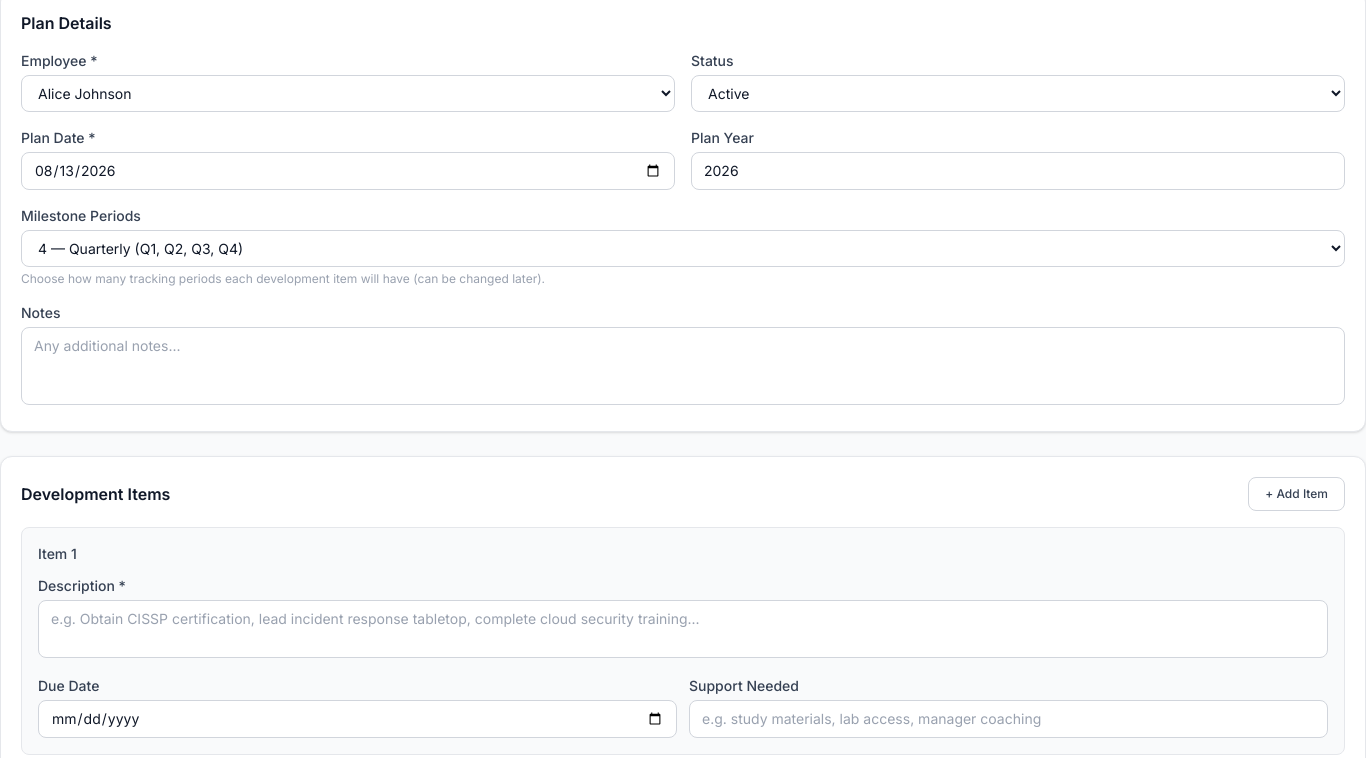
Scenario: IDPForm › adds a new development item when + Add Item is clicked
Step 1. Click the button "+ Add Item" → [1297, 494], box x1=1248 y1=477 x2=1345 y2=511
(page scrolled)
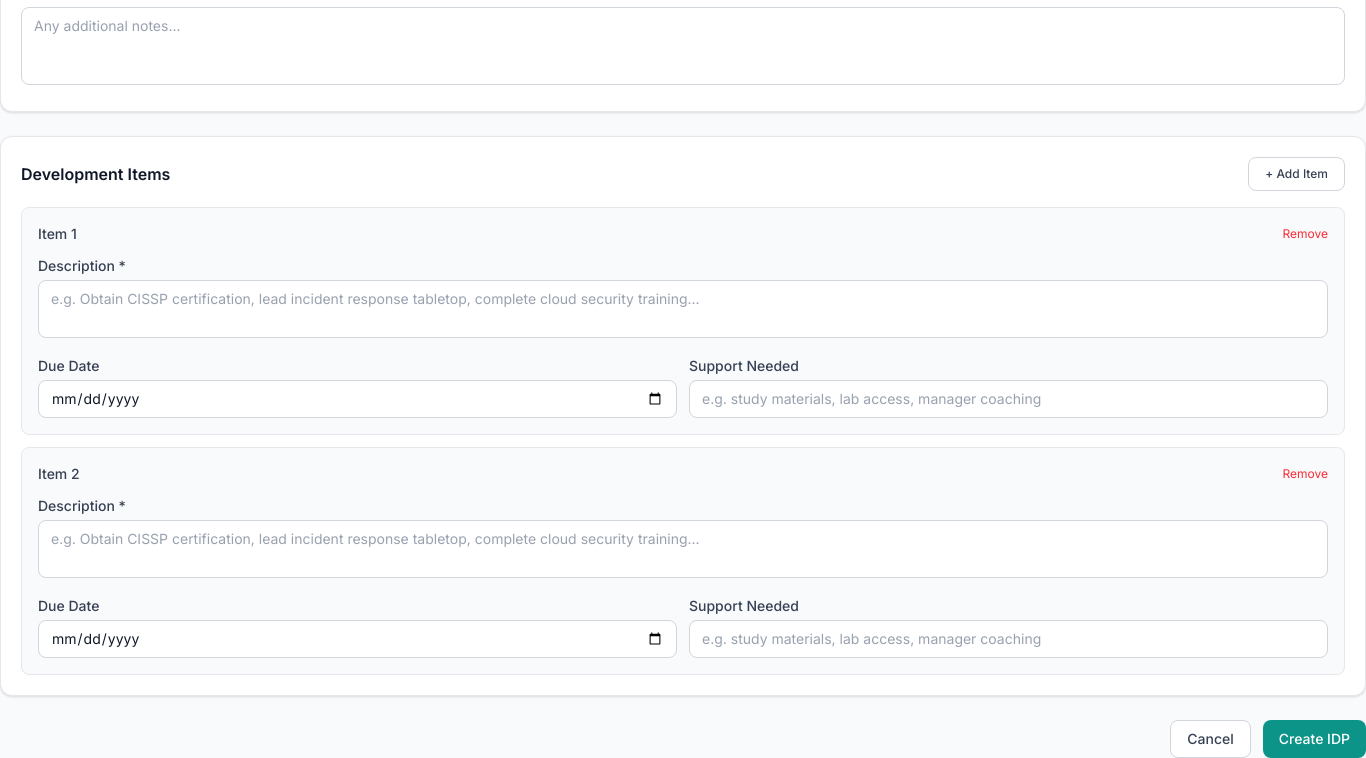
Check: the text "Item 2" is shown, box x1=38 y1=464 x2=80 y2=484
